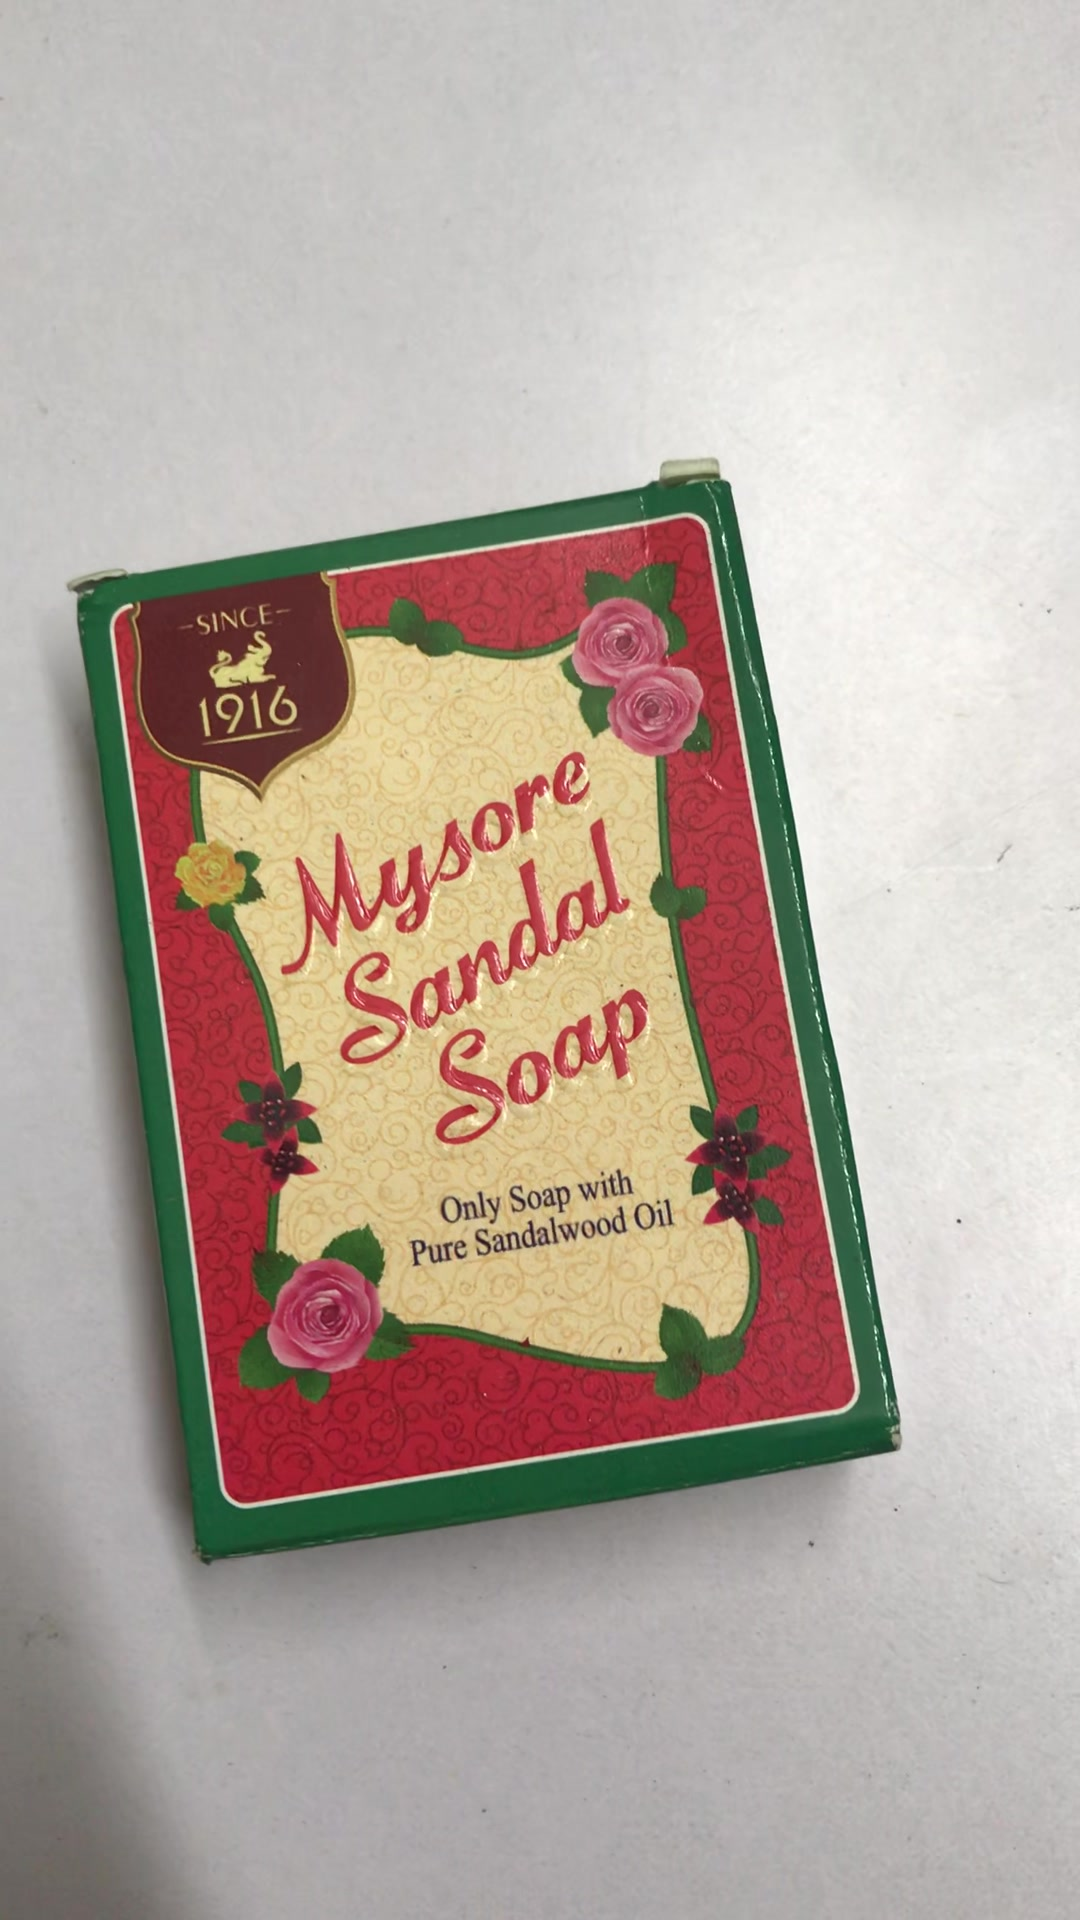mysore sandal soap: (80, 481, 905, 1569)
